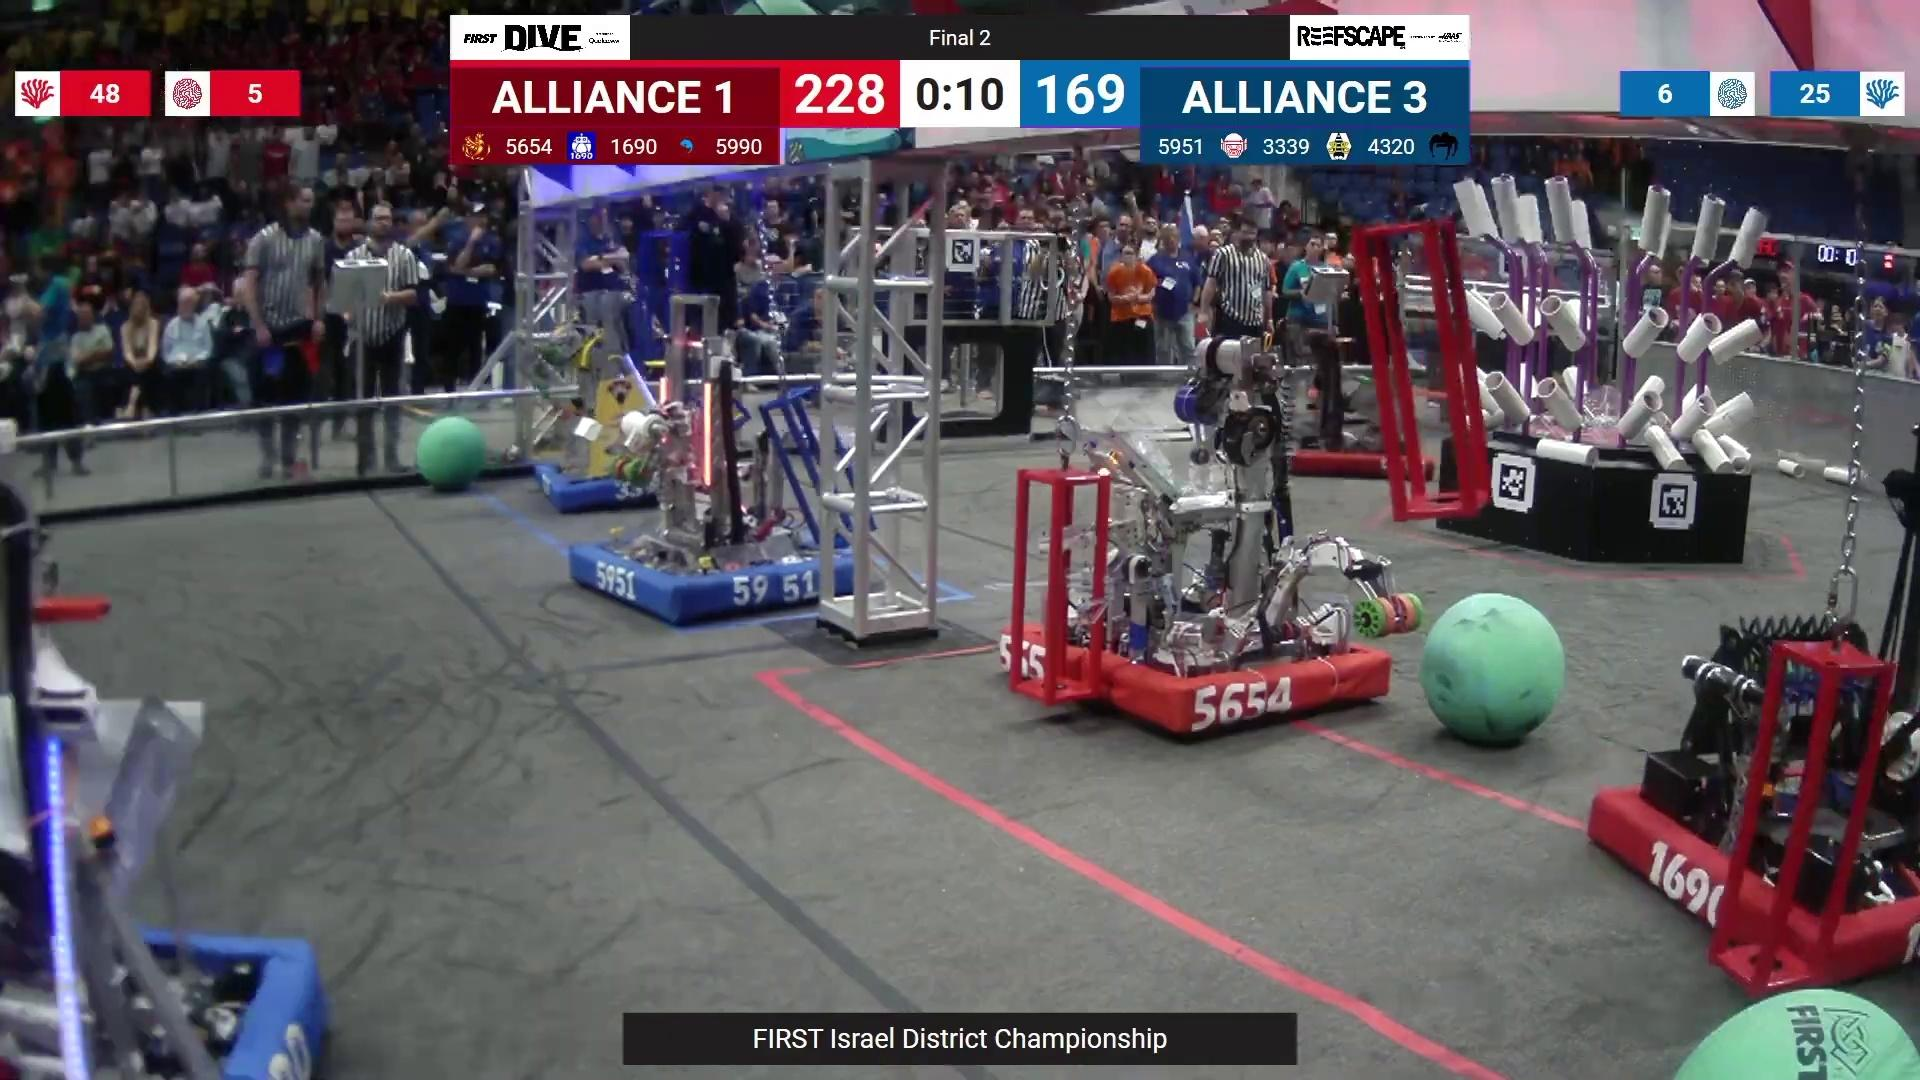robot: (0, 476, 327, 1080), (1000, 334, 1424, 742), (1589, 607, 1920, 1001), (568, 293, 868, 629), (533, 322, 698, 513), (1271, 328, 1439, 484)
